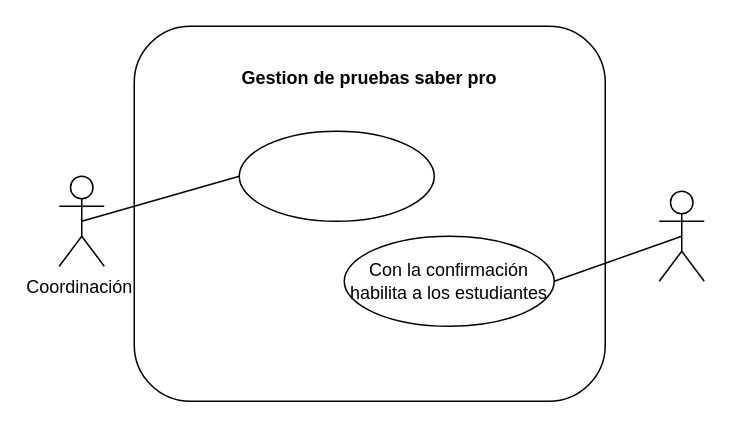
Some shapes in this 740 by 440 pixel diagram are drawn without their labels. Each missing label, with the box of its shape:
Evalúa y valida la informacion de los admitidos: (238, 130, 434, 221)
Sistema: (658, 190, 704, 281)
